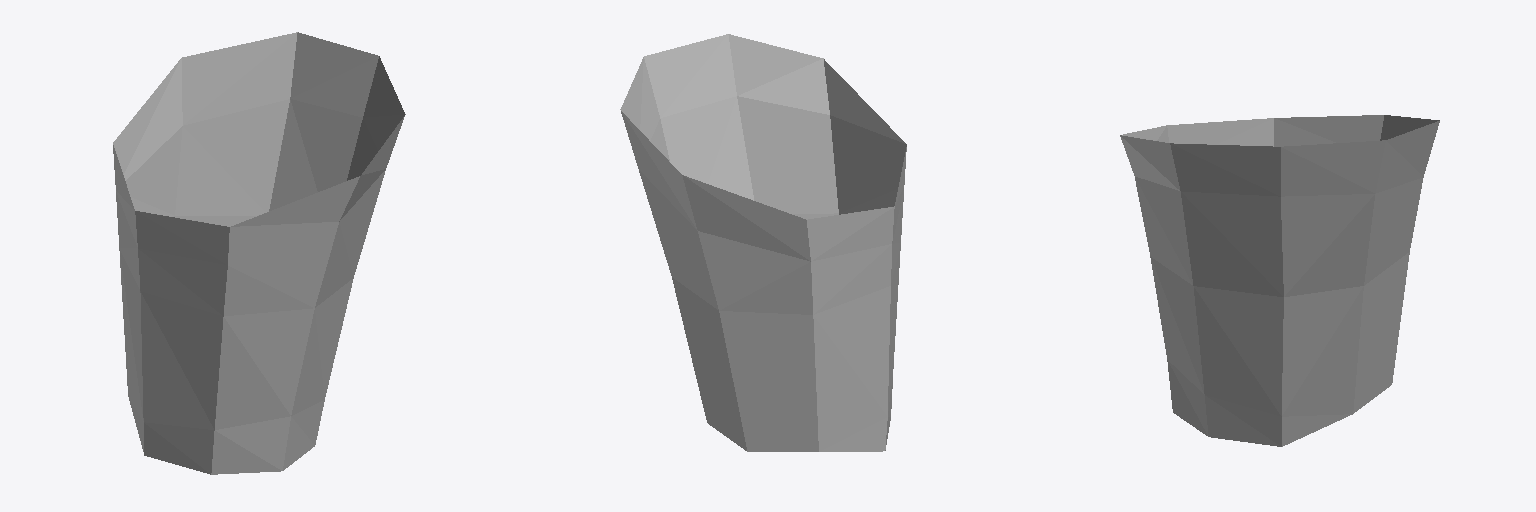
File: up_legs_L.obj
3 views of the same model, side by side, from view 1: azimuth 30°, elevation 25°; view 2: azimuth 150°, elevation 25°; view 3: azimuth 270°, elevation 25° (orthographic).
Visible parts, largest first — view 1: KERORO; view 2: KERORO; view 3: KERORO.
Boxes of the visible parts, x1,y1,x2,y2 form: KERORO: [113, 32, 405, 474]; KERORO: [620, 34, 906, 451]; KERORO: [1120, 115, 1439, 446].
Bounding box in the file's own units: 0.7791 × 1.02 × 0.8734.